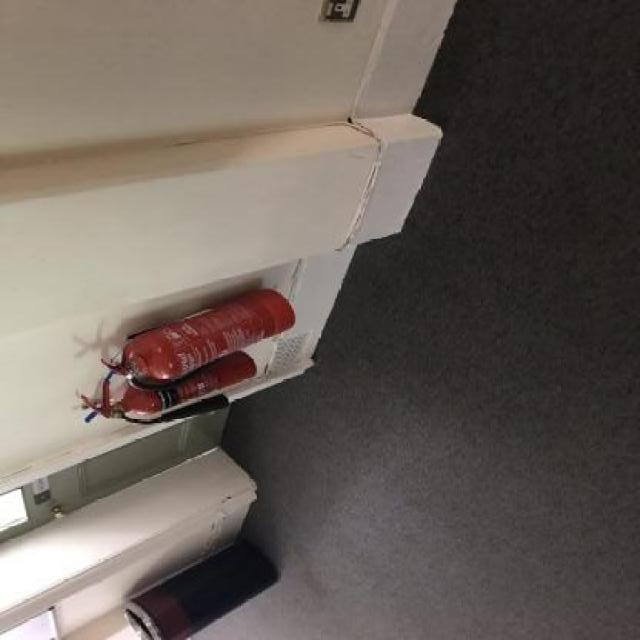fire extinguisher: (101, 288, 296, 392), (81, 350, 259, 425)
